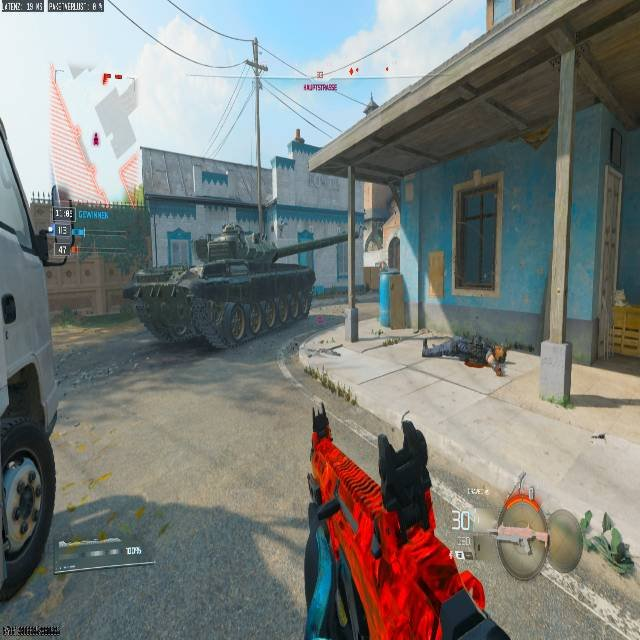head: (491, 344, 505, 359)
